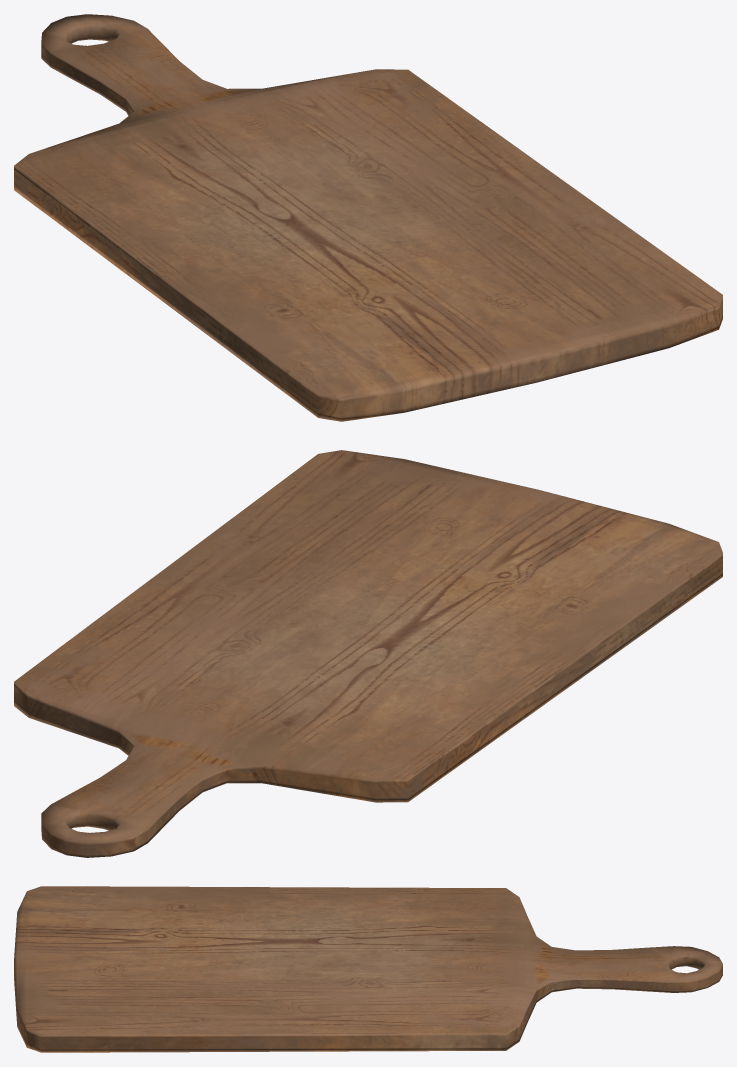
Rendered from Cutting_Board_With-Handle.fbx.
3 renders of one model, top to bottom at view 1: azimuth 30°, elevation 25°; view 2: azimuth 150°, elevation 25°; view 3: azimuth 270°, elevation 25°, orthographic. The views are drawn at different scales.
Visible parts, largest first — view 1: Cutting_Board_With-Handle; view 2: Cutting_Board_With-Handle; view 3: Cutting_Board_With-Handle.
Part boxes in pixels (x1,y1,x2,y2): Cutting_Board_With-Handle: (14,14,722,421); Cutting_Board_With-Handle: (14,450,722,857); Cutting_Board_With-Handle: (14,886,722,1052).
Size of the model in its own units: 13.42 by 0.9411 by 27.13.
